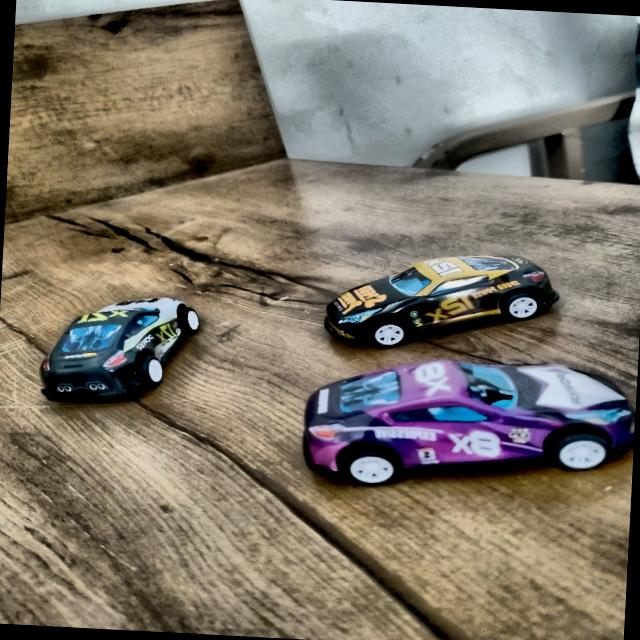Car: (290, 345, 634, 518), (319, 230, 560, 352), (36, 283, 204, 426)
